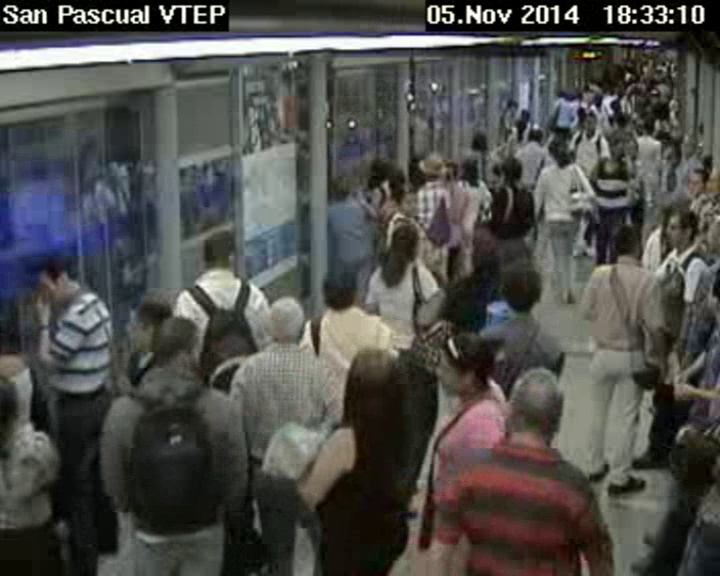person: (495, 358, 570, 455), (335, 342, 410, 436), (432, 329, 502, 406), (150, 311, 217, 373), (27, 253, 91, 302), (437, 271, 491, 329), (375, 221, 425, 282), (497, 258, 548, 315), (318, 263, 360, 315), (198, 224, 243, 272), (263, 292, 303, 346), (660, 209, 702, 255), (608, 220, 647, 265), (416, 149, 458, 184), (390, 186, 419, 219), (331, 172, 360, 202), (498, 158, 525, 185), (685, 164, 708, 194), (660, 141, 686, 163), (597, 145, 625, 165), (549, 141, 572, 165), (521, 124, 548, 143), (462, 157, 481, 182), (582, 108, 597, 135), (638, 115, 657, 136), (471, 132, 488, 151), (616, 111, 627, 131), (560, 89, 573, 103), (507, 100, 516, 113)
